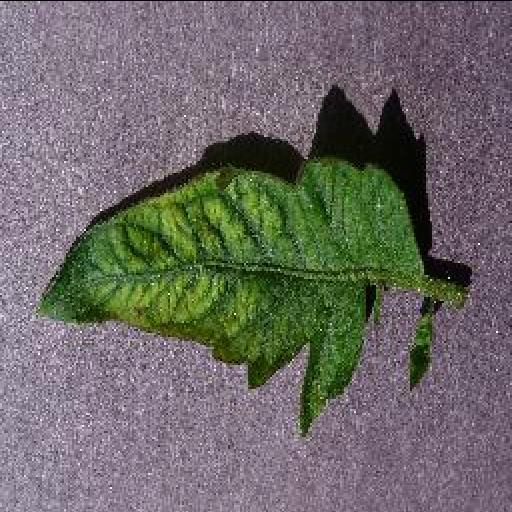disease_tomato: (40, 150, 422, 436)
